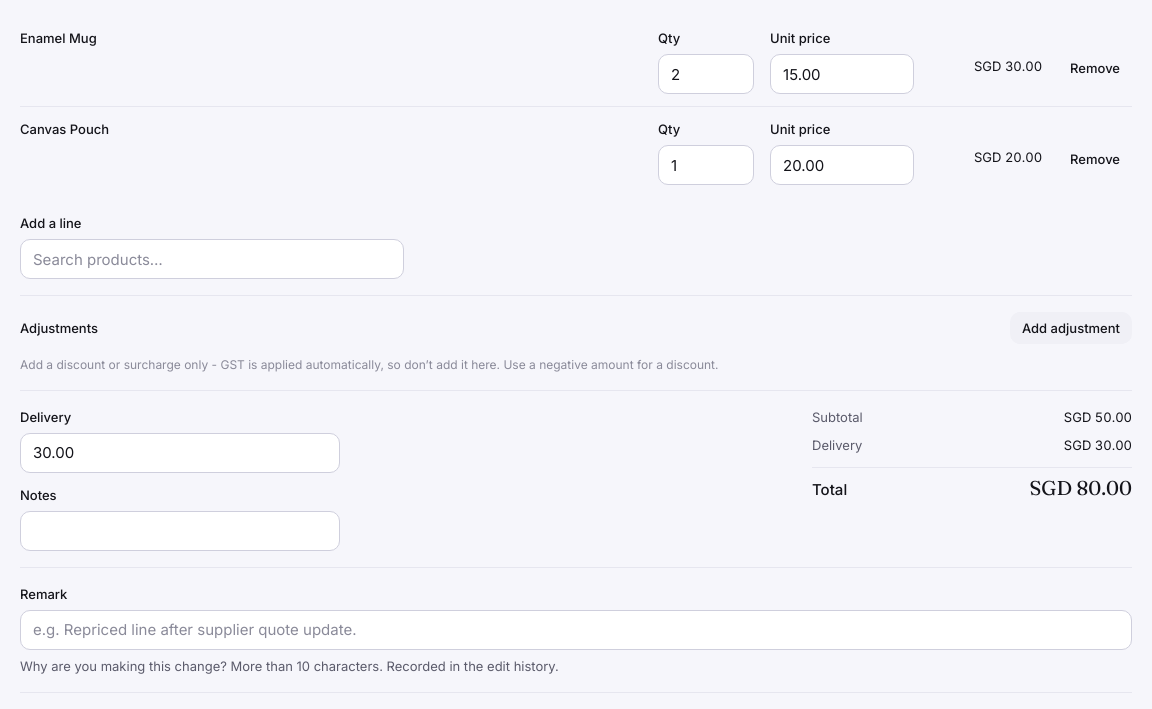
lets a pending removal be undone before saving
Click the button "Remove" next to "20.00": (1095, 159) [1058, 143, 1132, 175]
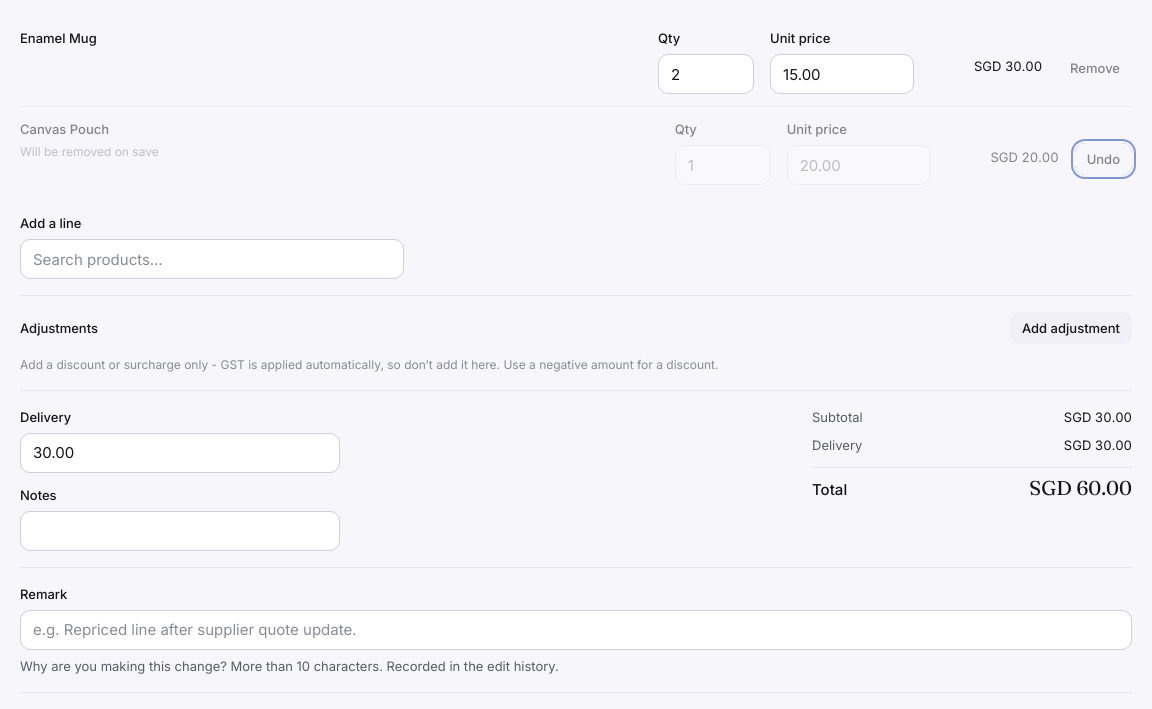
Expected: the text "Will be removed on save" is shown, [20, 144, 159, 159]
Click the button "Undo": (1103, 159) [1075, 143, 1132, 175]
(page scrolled)
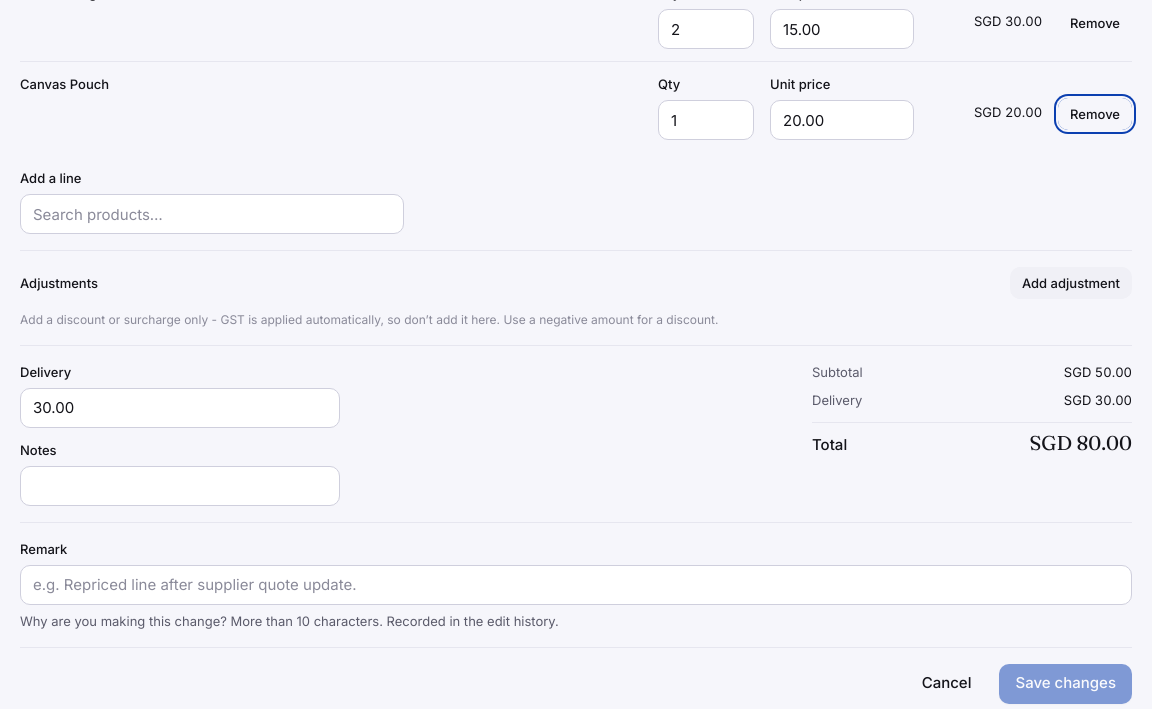
Expected: the button "Save changes" is disabled, [1000, 664, 1132, 704]
Expected: the text "Will be removed on save" is gone
